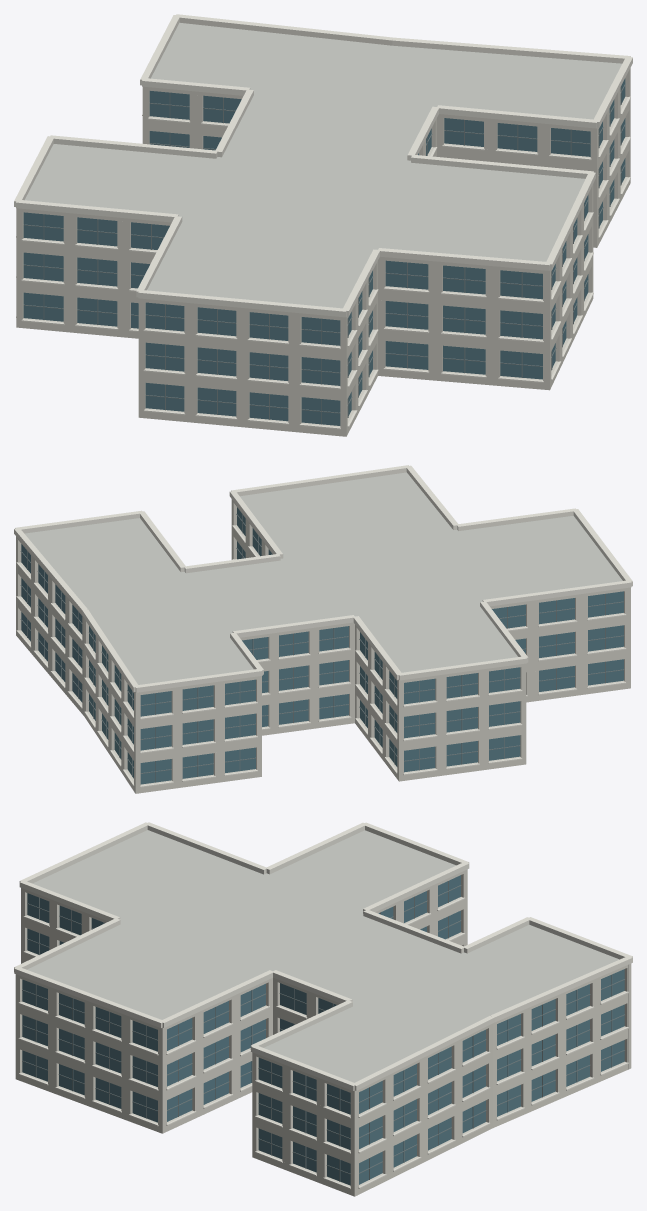
3 views of the same model, one above another, from view 1: azimuth 30°, elevation 25°; view 2: azimuth 150°, elevation 25°; view 3: azimuth 270°, elevation 25° (orthographic). The views are drawn at different scales.
Visible parts, largest first — view 1: roof, wall, glass, trim, metal; view 2: roof, wall, glass, trim, metal; view 3: roof, wall, glass, trim, metal.
Boxes of the visible parts, x1=… form: roof: x1=25, y1=22, x2=621, y2=308; wall: x1=16, y1=68, x2=630, y2=436; glass: x1=23, y1=78, x2=625, y2=425; trim: x1=14, y1=14, x2=632, y2=429; metal: x1=23, y1=83, x2=625, y2=424; roof: x1=25, y1=472, x2=622, y2=684; wall: x1=16, y1=499, x2=630, y2=793; glass: x1=21, y1=507, x2=623, y2=784; trim: x1=14, y1=465, x2=632, y2=787; metal: x1=20, y1=513, x2=624, y2=782; roof: x1=27, y1=830, x2=619, y2=1082; wall: x1=15, y1=869, x2=631, y2=1196; glass: x1=22, y1=875, x2=624, y2=1185; trim: x1=14, y1=822, x2=632, y2=1189; metal: x1=22, y1=881, x2=625, y2=1181.
Bounding box in the file's own units: 49.52 × 9.74 × 49.09.
